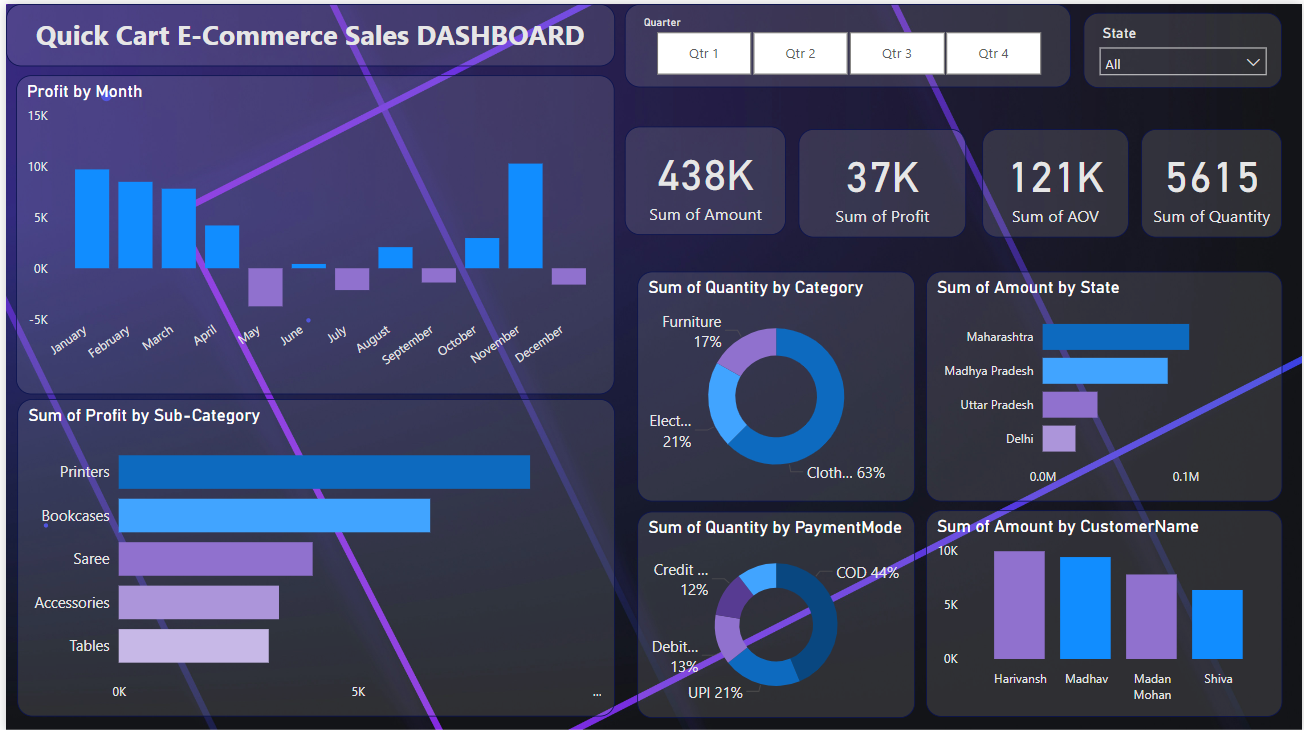

What the dashboard file says about the page in this screenshot:
{"tool":"powerbi","page":{"name":"Page 1","canvas":[1280,720],"ordinal":0},"visuals":[{"type":"textbox","box":[0,0,601.2,61.7],"z":0},{"type":"columnChart","title":"Profit by Month","fields":{"Y":["Details.Profit"],"Category":["Orders.Order Date.Variation.Date Hierarchy.Month"]},"box":[9.9,70.4,591.4,314.8],"z":1000},{"type":"barChart","fields":{"Category":["Details.Sub-Category"],"Y":["Details.Profit"]},"box":[11.1,390.1,590.1,313.6],"z":2000},{"type":"donutChart","fields":{"Category":["Details.Category"],"Y":["Details.Quantity"]},"box":[623.5,264.2,274.1,227.2],"z":3000},{"type":"donutChart","fields":{"Category":["Details.PaymentMode"],"Y":["Details.Quantity"]},"box":[623.5,501.2,274.1,203.7],"z":4000},{"type":"card","fields":{"Values":["Details.Amount"]},"box":[611.1,121,159.3,107.4],"z":5000},{"type":"card","fields":{"Values":["Details.Quantity"]},"box":[1121,123.5,139.5,107.4],"z":6000},{"type":"card","fields":{"Values":["Details.Profit"]},"box":[782.7,123.5,165.4,107.4],"z":7000},{"type":"card","fields":{"Values":["Details.AOV"]},"box":[964.2,123.5,144.4,107.4],"z":8000},{"type":"barChart","fields":{"Category":["Orders.State"],"Y":["Details.Amount"]},"box":[908.6,264.2,351.9,227.2],"z":9000},{"type":"columnChart","fields":{"Category":["Orders.CustomerName"],"Y":["Details.Amount"]},"box":[908.6,500,351.9,203.7],"z":10000},{"type":"slicer","fields":{"Values":["Orders.Order Date.Variation.Date Hierarchy.Quarter"]},"box":[611.1,0,440.7,82.7],"z":10001},{"type":"slicer","fields":{"Values":["Orders.State"]},"box":[1064.2,8.6,196.3,74.1],"z":10002}]}

Visuals, with their boxes in screenshot pixels (x1, y1, x2, y2), scaled from the page's 1280x720 canvas onto the 1304x730 screenshot:
textbox: <box>0,0,612,63</box>
"Profit by Month" columnChart: <box>10,71,613,391</box>
barChart - Details.Sub-Category x Details.Profit: <box>11,396,612,713</box>
donutChart - Details.Category x Details.Quantity: <box>635,268,914,498</box>
donutChart - Details.PaymentMode x Details.Quantity: <box>635,508,914,715</box>
card - Details.Amount: <box>623,123,785,232</box>
card - Details.Quantity: <box>1142,125,1284,234</box>
card - Details.Profit: <box>797,125,966,234</box>
card - Details.AOV: <box>982,125,1129,234</box>
barChart - Orders.State x Details.Amount: <box>926,268,1284,498</box>
columnChart - Orders.CustomerName x Details.Amount: <box>926,507,1284,713</box>
slicer - Orders.Order Date.Variation.Date Hierarchy.Quarter: <box>623,0,1072,84</box>
slicer - Orders.State: <box>1084,9,1284,84</box>
